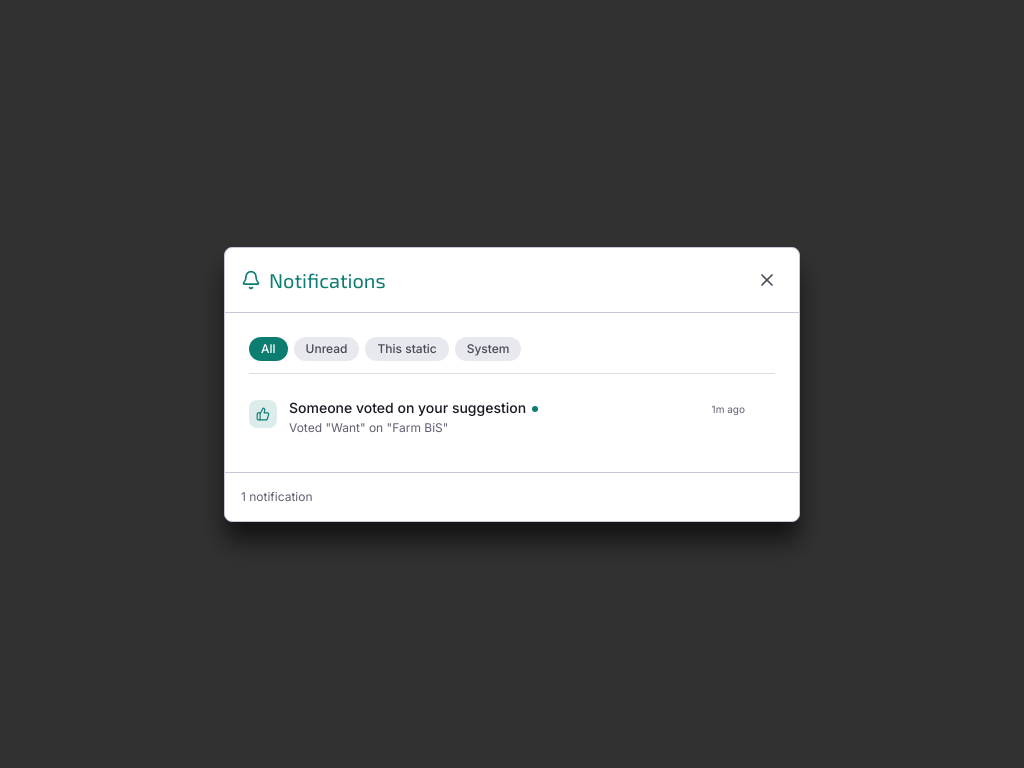
Test: NotificationCenter › "This static" filter › hides notification whose group_id belongs to a different group
The image size is (1024, 768).
Click the button "This static" at (407, 348), box [366,336,449,360]
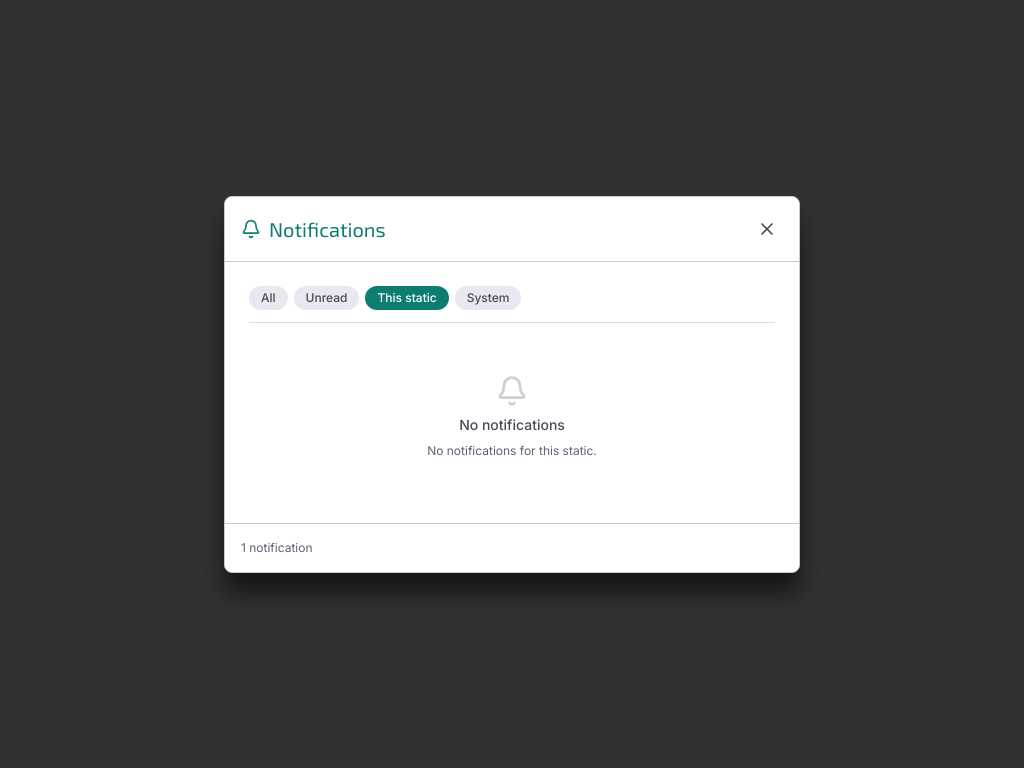
Now the button "Someone voted on your suggestion" is gone
